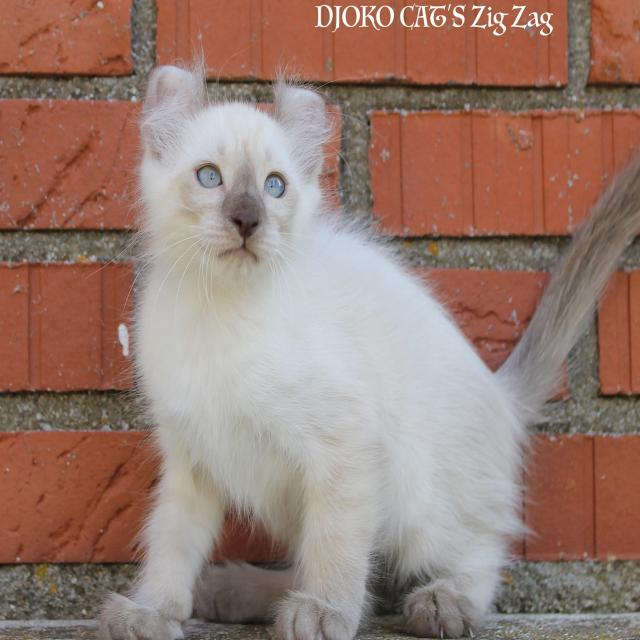American Curl: (92, 59, 532, 640)
